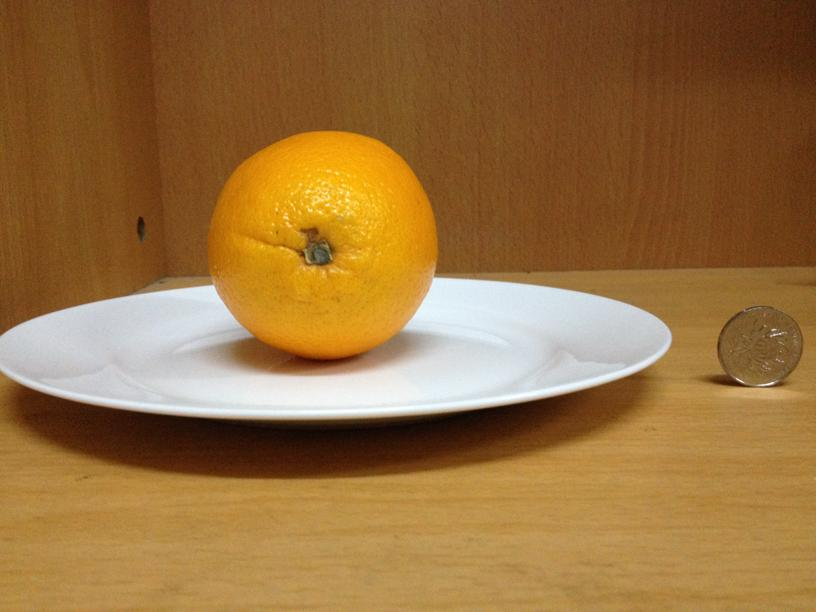coin: (716, 301, 803, 389)
orange: (206, 128, 438, 356)
